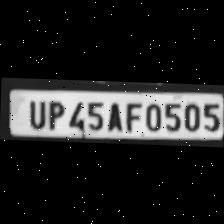0: (142, 100, 162, 132), (182, 100, 200, 132)
4: (65, 98, 85, 132)
5: (200, 99, 222, 132), (161, 98, 181, 132), (84, 98, 104, 131)
A: (104, 98, 124, 132)
F: (122, 98, 142, 131)
P: (44, 97, 64, 130)
U: (22, 98, 46, 130)
